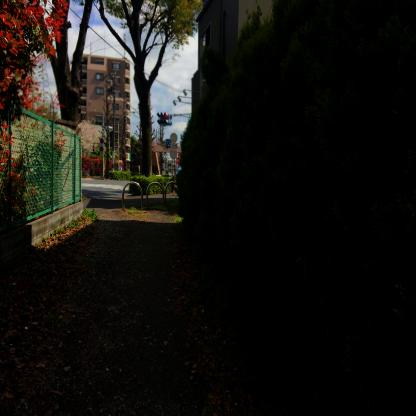Someiyoshino: (65, 116, 101, 157)
